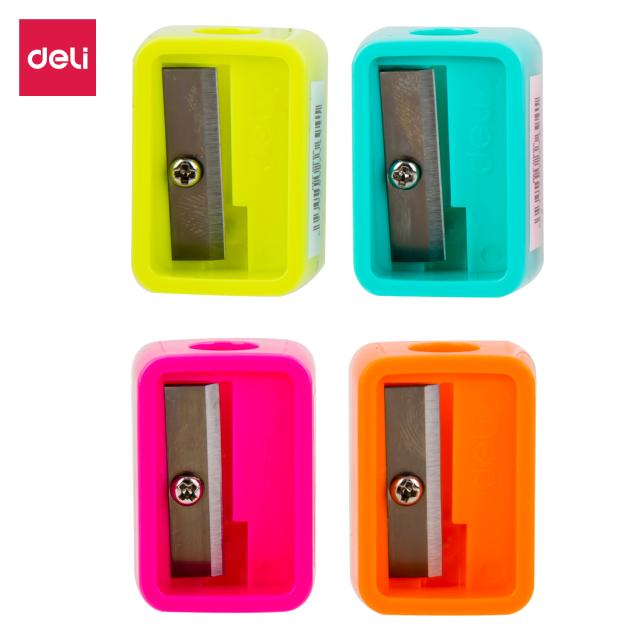pencil_sharpener: (126, 11, 333, 296)
